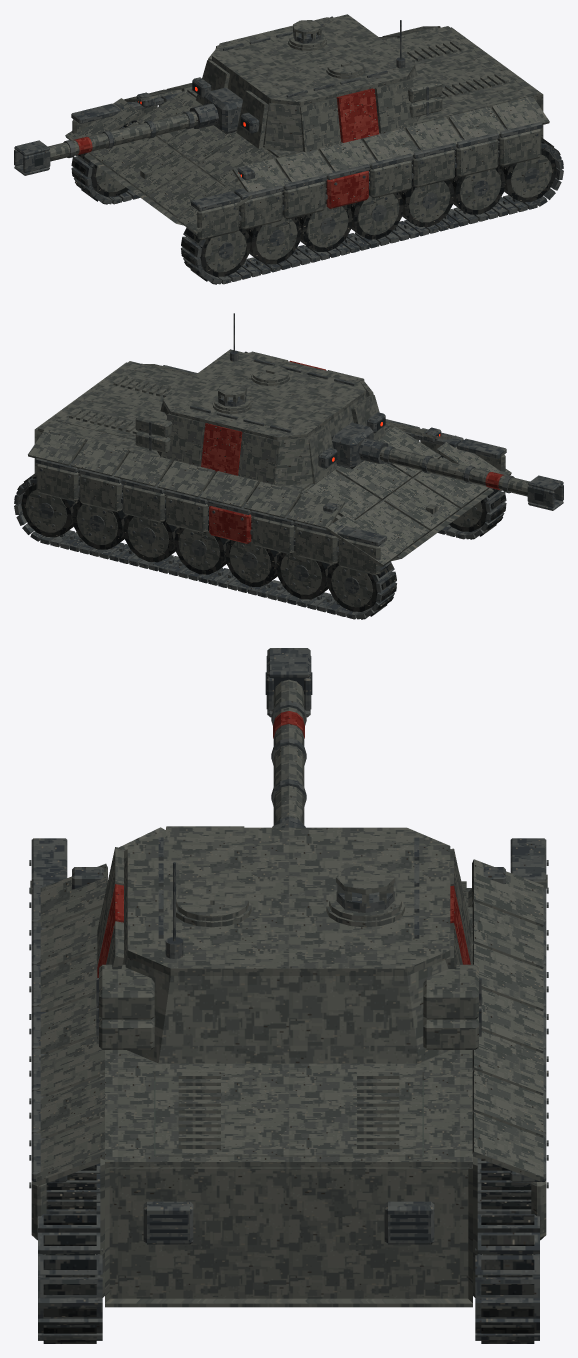
File: TankPrototype_2.fbx
3 renders of one model, top to bottom at view 1: azimuth 30°, elevation 25°; view 2: azimuth 150°, elevation 25°; view 3: azimuth 270°, elevation 25°, orthographic. The views are drawn at different scales.
Parts seen in each view (by area): view 1: AboveTower, Engine_Service_Cover, towerpart, Wheel_L_06, Wheel_L_01, Wheel_L_05, Wheel_L_02, Wheel_L_03, V4_Glacis_0_1, Wheel_L_04, V4_Barrel, V4_Glacis_0_0 (+43 smaller); view 2: AboveTower, Engine_Service_Cover, towerpart, Wheel_R_06, Wheel_R_01, Wheel_R_05, Wheel_R_02, Wheel_R_04, V4_Glacis_0_1, Wheel_R_03, V4_Barrel, Wheel_R_00 (+40 smaller); view 3: BackPart, AboveTower, tower, towerpart, Engine_Service_Cover, Wireframe, V4_Barrel, V4_Shoulder_1_6, V4_Shoulder_1_1, V4_Shoulder_1_5, V4_Shoulder_-1_6, V4_Shoulder_1_4 (+37 smaller).
Part boxes in pixels (<box>): AboveTower: <box>212,17,415,105</box>; Engine_Service_Cover: <box>397,36,521,104</box>; towerpart: <box>187,26,539,157</box>; Wheel_L_06: <box>498,148,556,202</box>; Wheel_L_01: <box>246,210,301,264</box>; Wheel_L_05: <box>449,165,505,214</box>; Wheel_L_02: <box>297,199,352,251</box>; Wheel_L_03: <box>347,189,403,239</box>; V4_Glacis_0_1: <box>118,144,193,196</box>; Wheel_L_04: <box>398,178,454,226</box>; V4_Barrel: <box>48,111,198,161</box>; V4_Glacis_0_0: <box>148,166,223,217</box>; AboveTower: <box>162,352,365,440</box>; Engine_Service_Cover: <box>56,371,180,439</box>; towerpart: <box>38,361,390,491</box>; Wheel_R_06: <box>21,483,79,537</box>; Wheel_R_01: <box>276,545,331,599</box>; Wheel_R_05: <box>72,500,128,549</box>; Wheel_R_02: <box>225,534,280,586</box>; Wheel_R_04: <box>123,513,179,562</box>; V4_Glacis_0_1: <box>384,479,459,531</box>; Wheel_R_03: <box>174,524,229,574</box>; V4_Barrel: <box>379,446,529,496</box>; Wheel_R_00: <box>327,559,377,611</box>; BackPart: <box>105,1165,472,1298</box>; AboveTower: <box>127,827,450,975</box>; tower: <box>122,854,450,1063</box>; towerpart: <box>105,907,472,1165</box>; Engine_Service_Cover: <box>155,1072,422,1156</box>; Wireframe: <box>100,888,477,1303</box>; V4_Barrel: <box>273,679,304,824</box>; V4_Shoulder_1_6: <box>472,1112,543,1181</box>; V4_Shoulder_1_1: <box>472,901,543,969</box>; V4_Shoulder_1_5: <box>472,1070,543,1137</box>; V4_Shoulder_-1_6: <box>36,1116,104,1186</box>; V4_Shoulder_1_4: <box>472,1031,543,1095</box>.
Size of the model in its own units: 15.01 by 5.61 by 6.98.
